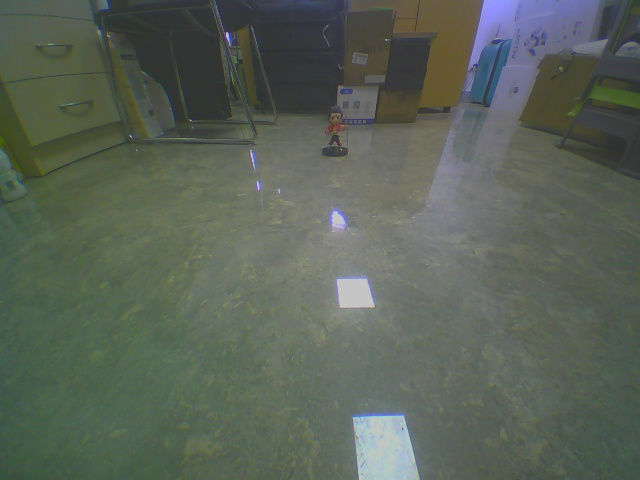Nezha: (307, 91, 363, 162)
